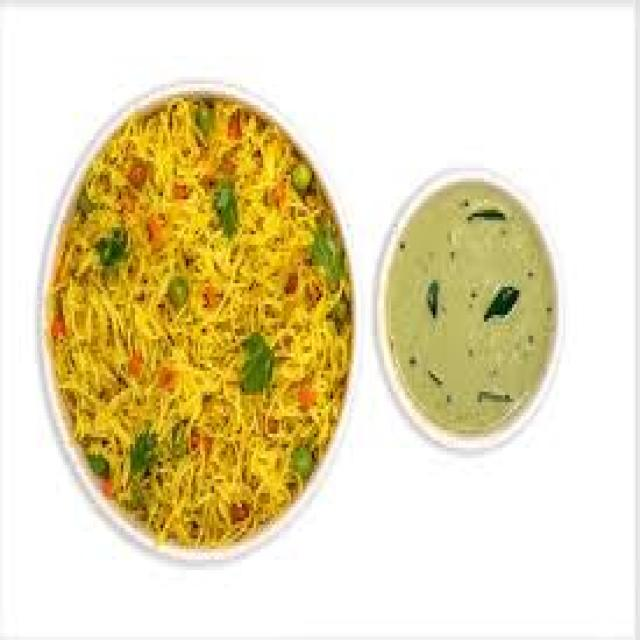POHA: (47, 101, 347, 535)
